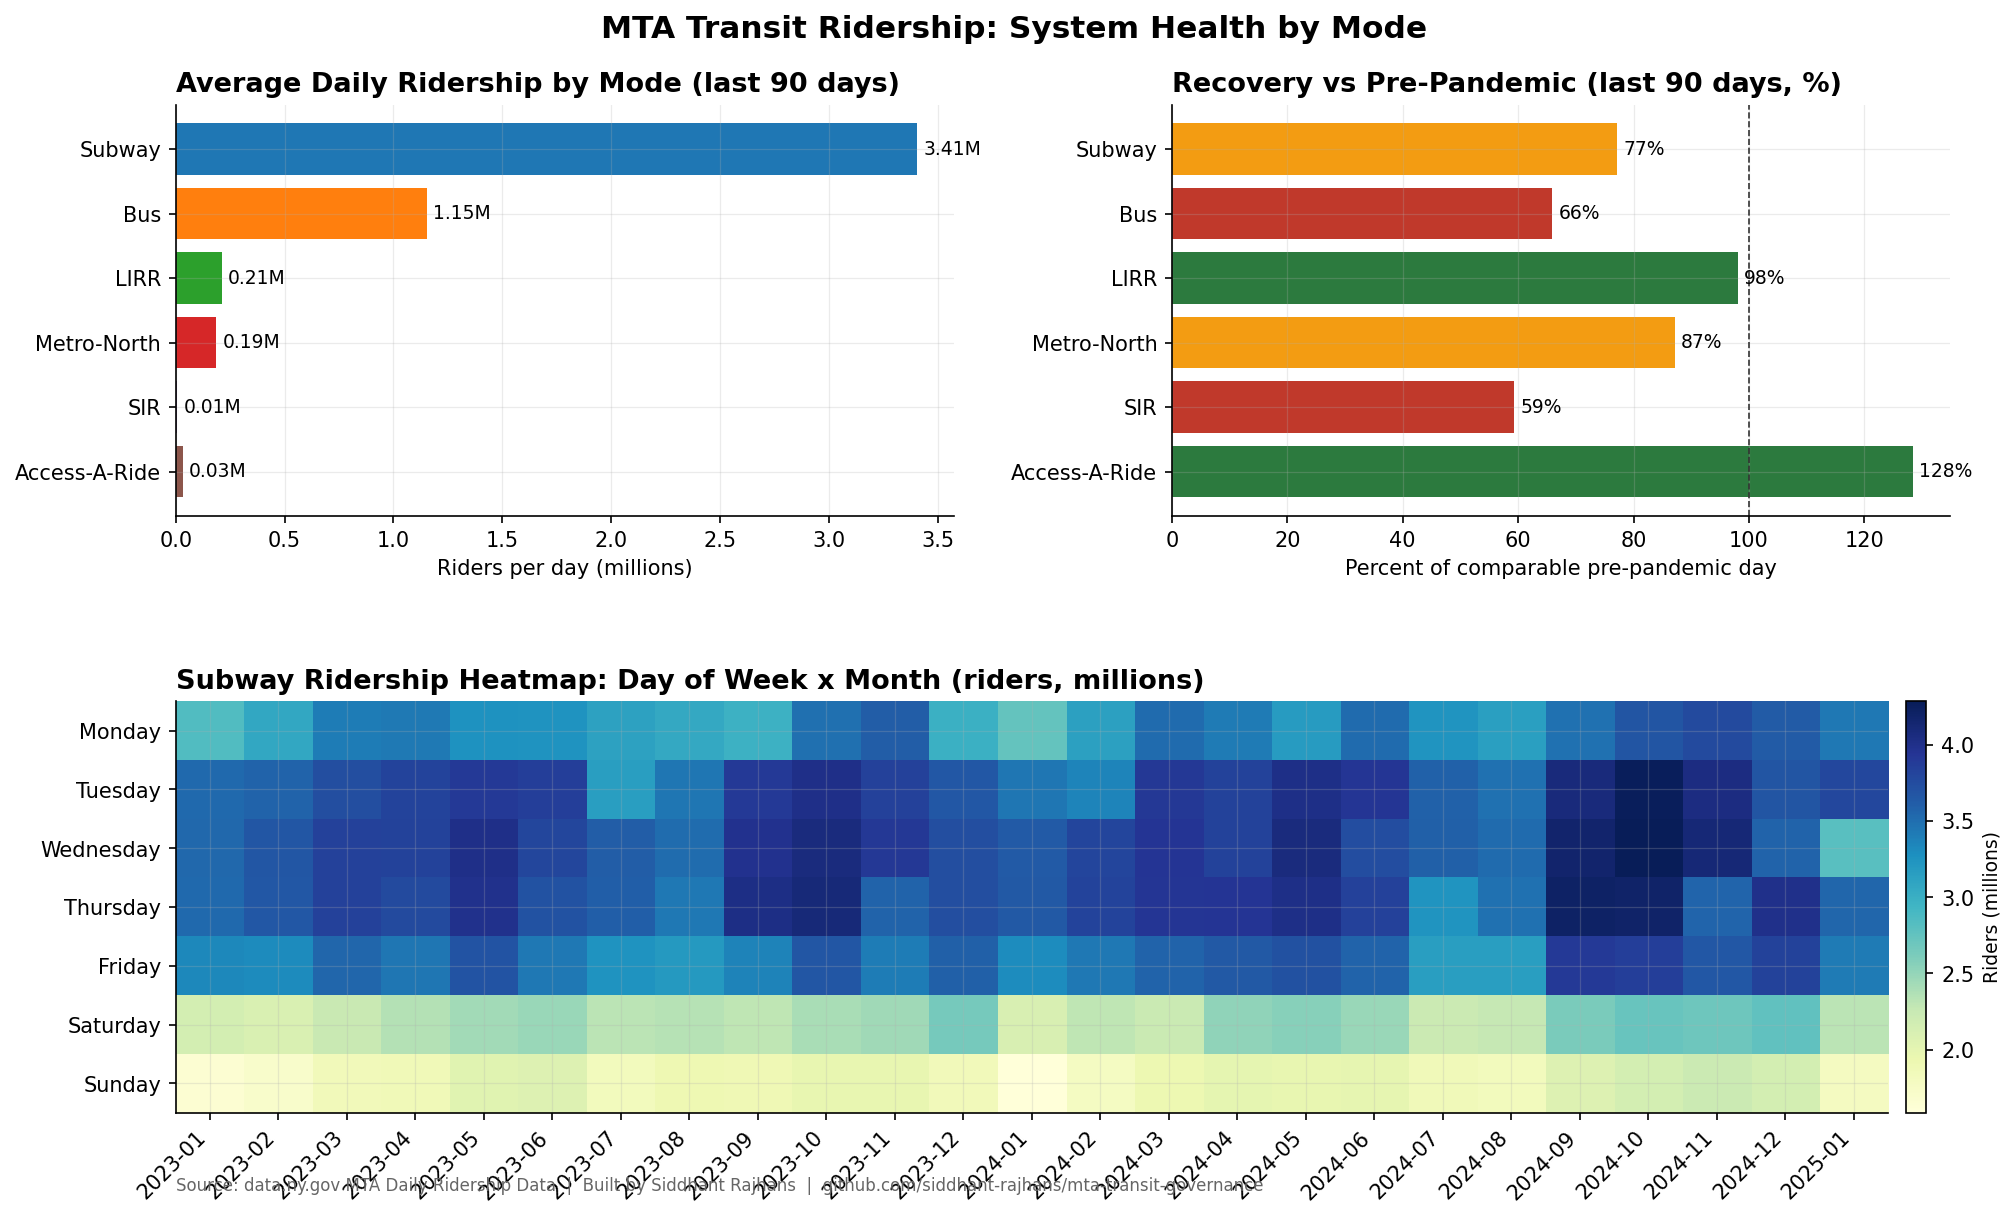

What the dashboard file says about the page in this screenshot:
{"tool":"powerbi","page":{"name":"System Health","canvas":[1280,720],"ordinal":2},"visuals":[{"type":"clusteredBarChart","title":"Average Daily Ridership by Mode (last 90 days)","fields":{"Y":["_Measures.Access-A-Ride","_Measures.Bus","_Measures.LIRR","_Measures.Metro-North","_Measures.SIR","_Measures.Subway"]},"box":[30,100,600,285],"z":0},{"type":"clusteredBarChart","title":"Recovery vs Pre-Pandemic (last 90 days, %)","fields":{"Y":["_Measures.Subway %","_Measures.Metro-North %","_Measures.SIR %","_Measures.Bus %","_Measures.LIRR %","_Measures.Access-A-Ride %"]},"box":[650,100,600,285],"z":1},{"type":"pivotTable","title":"Subway Ridership Heatmap: Day of Week x Month","fields":{"Rows":["daily_ridership.day_of_week"],"Columns":["daily_ridership.month"],"Values":["Avg(daily_ridership.subway_riders)"]},"box":[30,400,1220,285],"z":2},{"type":"textbox","box":[30,30,800,50],"z":3}]}

Visuals, with their boxes on the page's 1280x720 design canvas (x1, y1, x2, y2). These are canvas units, not pixel positions in the 2016x1218 screenshot, which may show the page scaled, cropped or inside an application window:
"Average Daily Ridership by Mode (last 90 days)" clusteredBarChart: l=30, t=100, r=630, b=385
"Recovery vs Pre-Pandemic (last 90 days, %)" clusteredBarChart: l=650, t=100, r=1250, b=385
"Subway Ridership Heatmap: Day of Week x Month" pivotTable: l=30, t=400, r=1250, b=685
textbox: l=30, t=30, r=830, b=80
